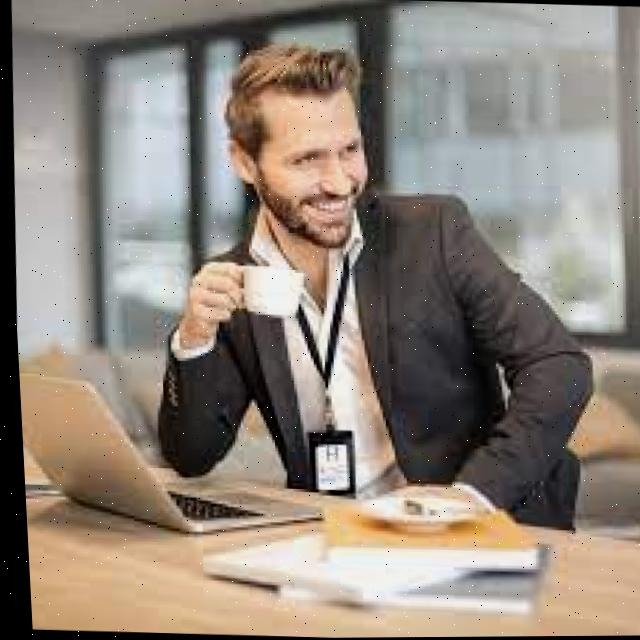id_card: (267, 282, 369, 498)
